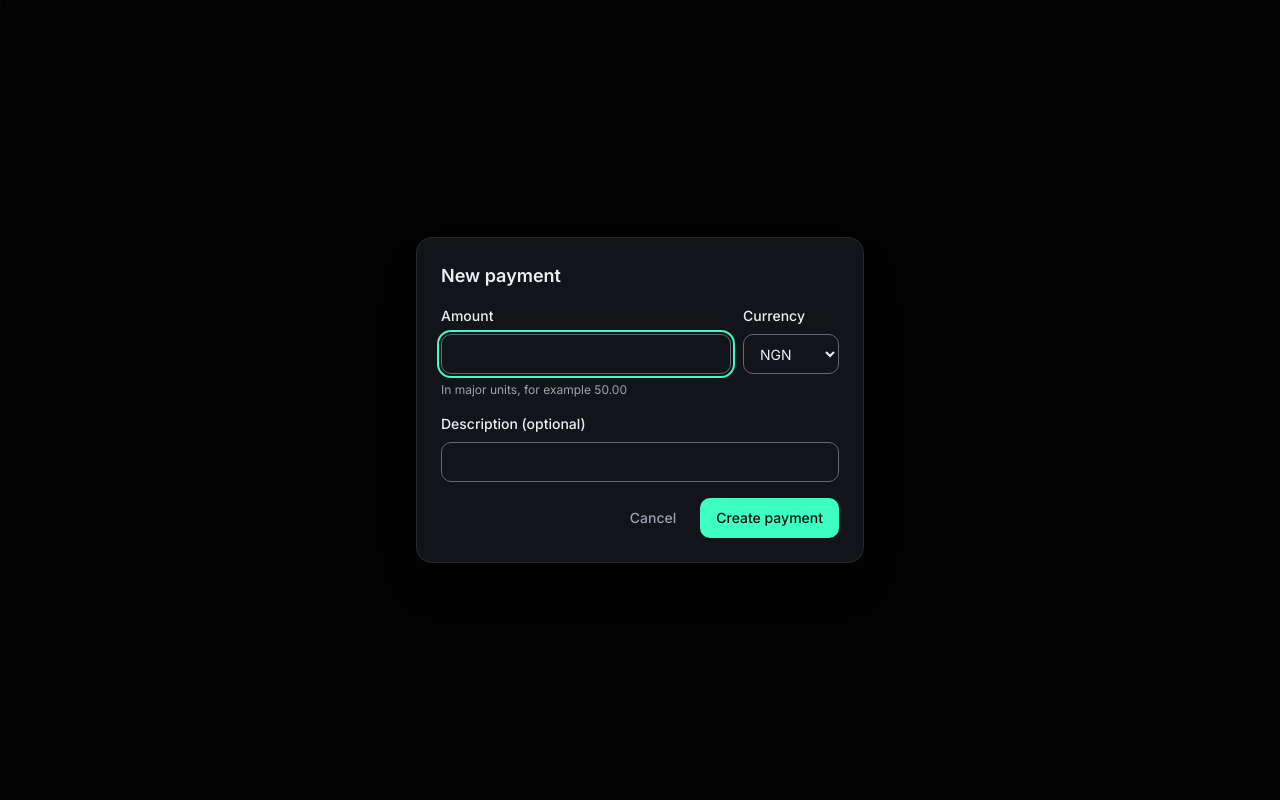
CreatePaymentModal › sends integer minor units, no client reference, and omits an empty description
Type "19.99" into the field labelled "Amount". click: (586, 354)
box: [441,334,731,374]
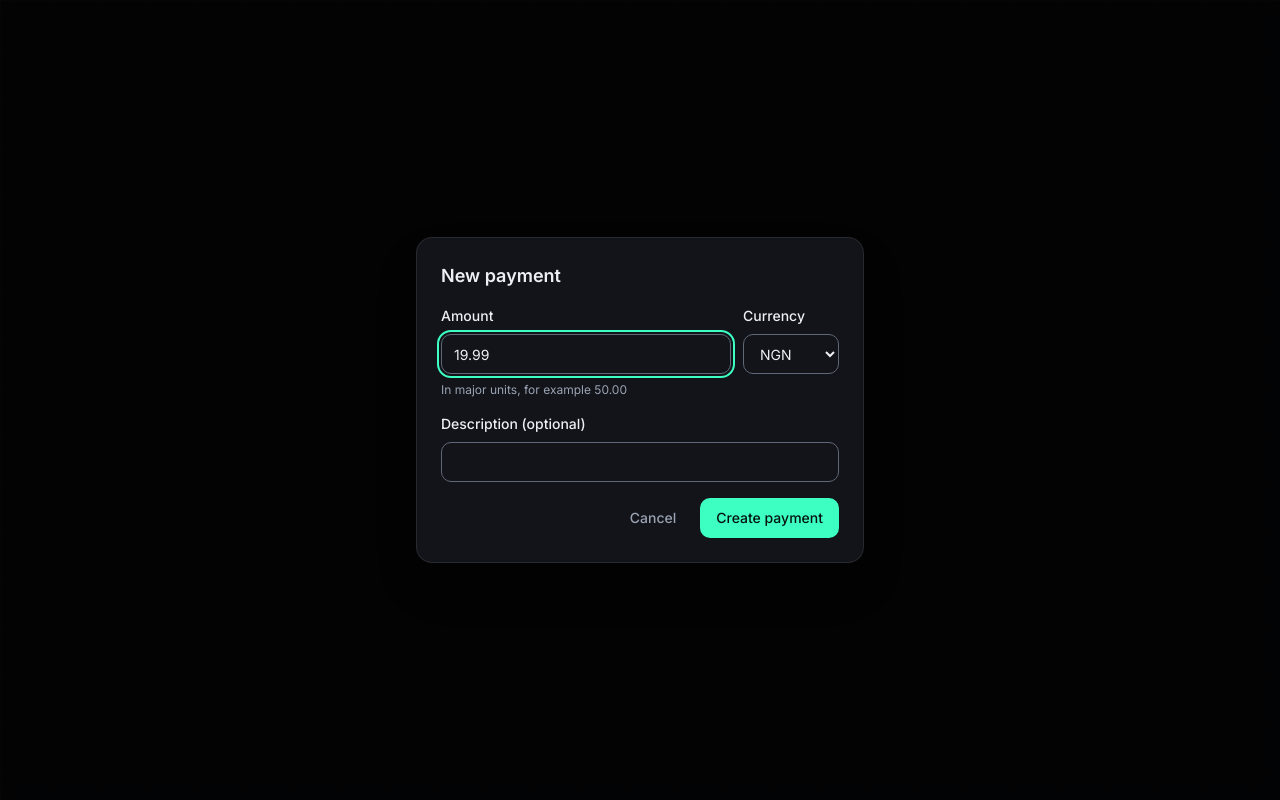
Select "EUR" in the dropdown labelled "Currency". click: (791, 354)
box: [743,334,839,374]
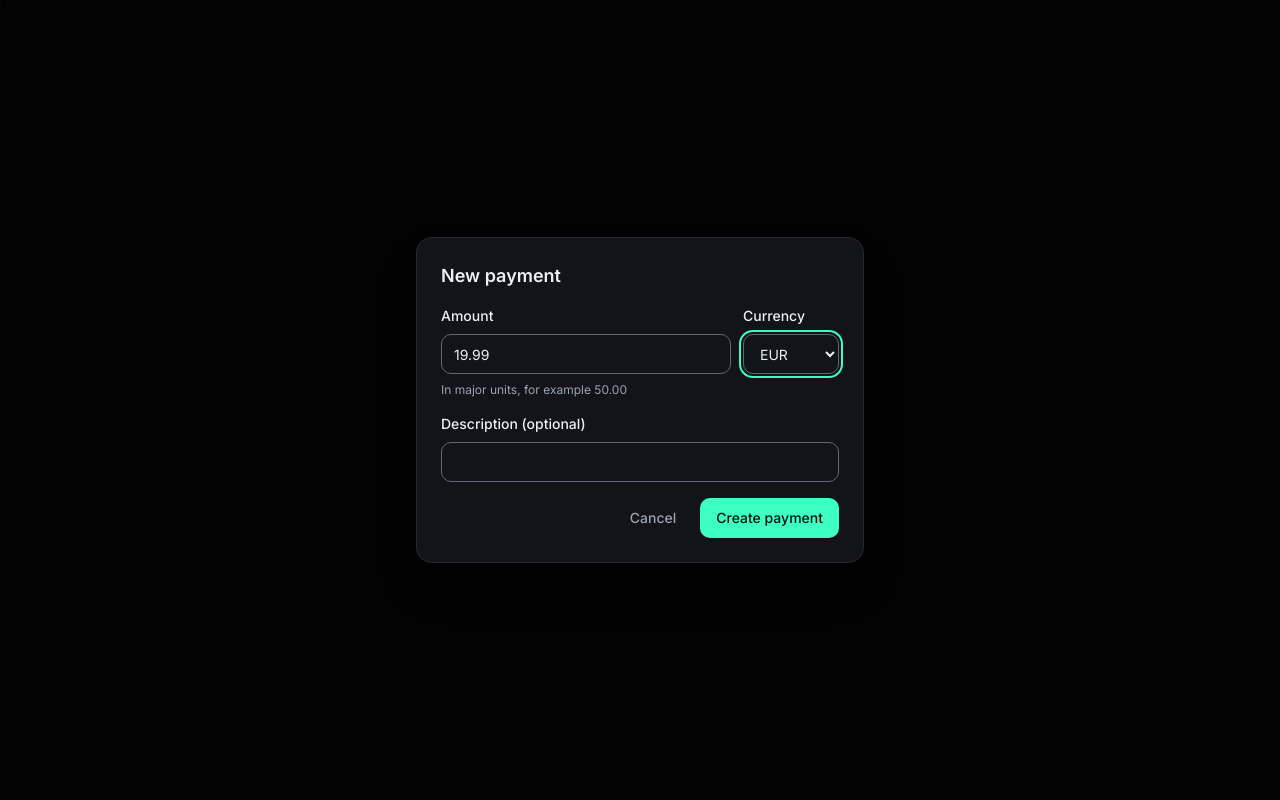
Click the button "Create payment". click: (770, 518)
box: [700,498,839,538]
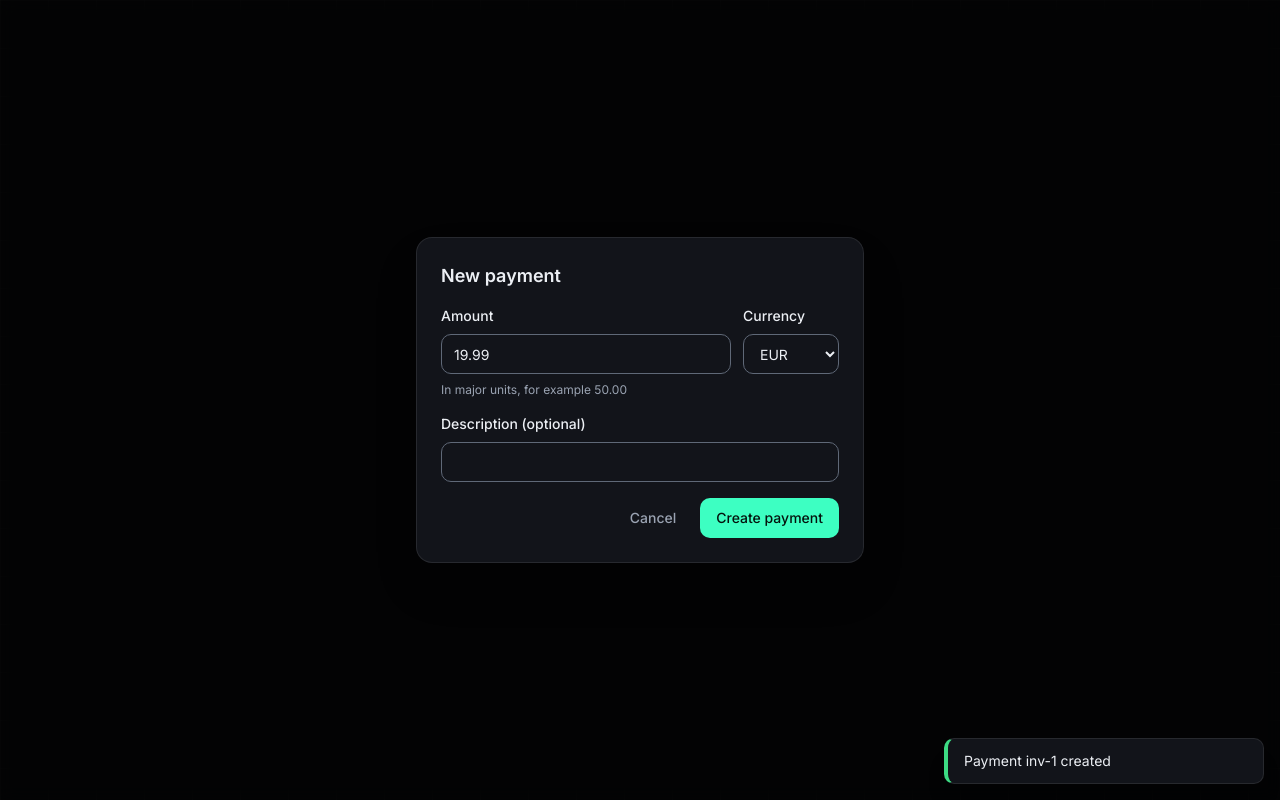
Check: the text "Payment inv-1 created" is shown, box [944,738,1264,784]
